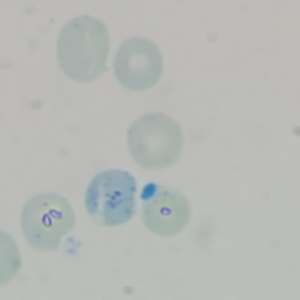erythrocyte: (18, 191, 79, 253), (111, 35, 166, 93), (138, 182, 190, 237)
punctate reticulocyte: (54, 14, 112, 84), (124, 111, 187, 172), (82, 167, 141, 229)
